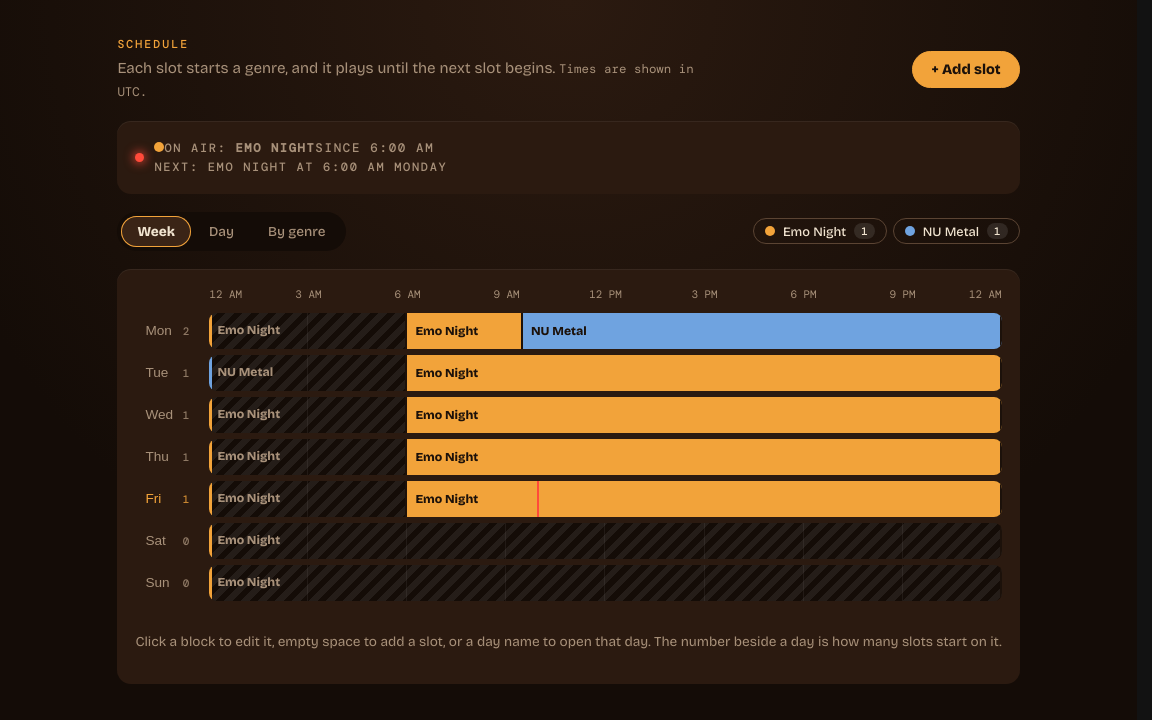
Test: SchedulePanel › lists slots by genre with weekly airtime
Expected: the text "On air:" is shown, [164,140,235,156]
Step 1. Click the button "By genre" → point(297, 231), box [252,216,342,246]
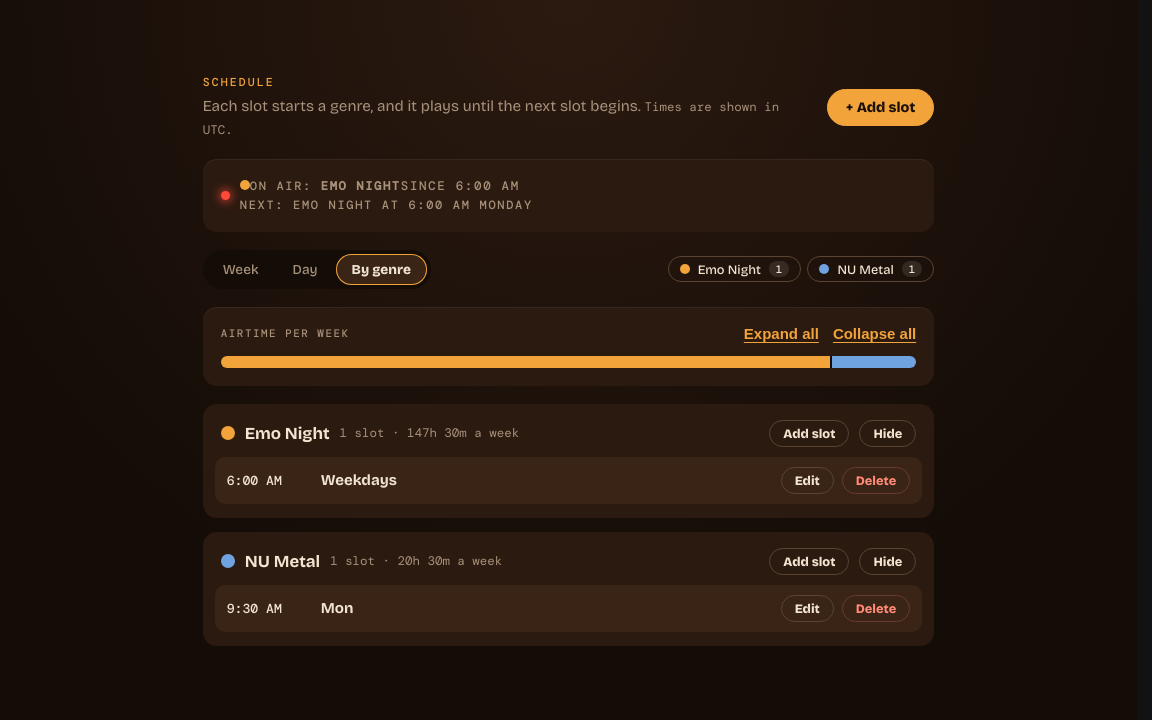
Expected: the text "Airtime per week" is shown, [221,326,350,340]
Expected: the text "1 slot · 147h 30m a week" is shown, [340,424,519,443]
